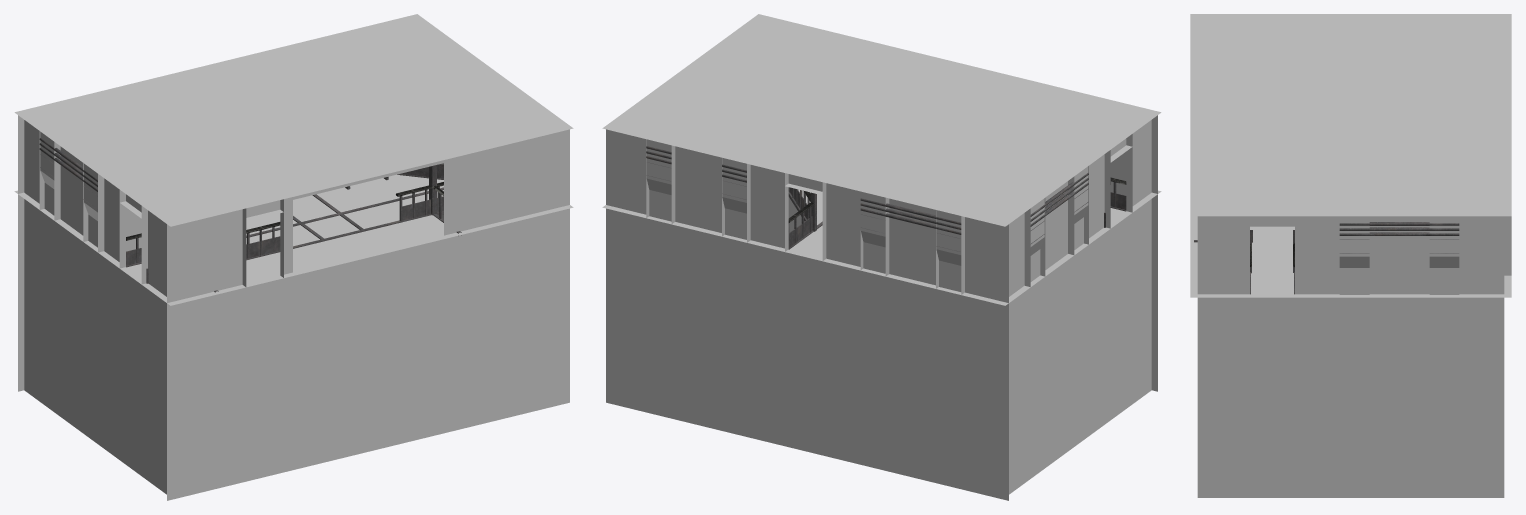
Rendered from Room3_5_LCZ.fbx.
3 views of the same model, side by side, from view 1: azimuth 30°, elevation 25°; view 2: azimuth 150°, elevation 25°; view 3: azimuth 270°, elevation 25° (orthographic). The views are drawn at different scales.
Visible parts, largest first — view 1: Room3_Catwalks_LCZ; view 2: Room3_Catwalks_LCZ; view 3: Room3_Catwalks_LCZ.
Boxes of the visible parts, x1,y1,x2,y2 form: Room3_Catwalks_LCZ: [14, 14, 573, 500]; Room3_Catwalks_LCZ: [602, 14, 1161, 500]; Room3_Catwalks_LCZ: [1190, 14, 1511, 497].
Size of the model in its own units: 2048 by 1344 by 1376.
